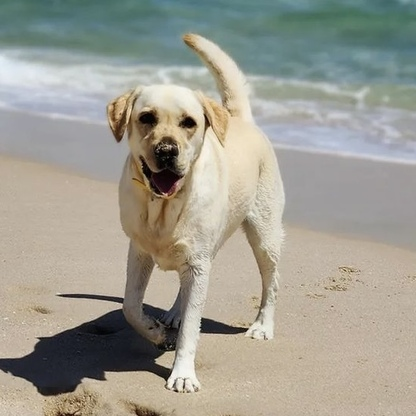labrado: (103, 24, 291, 397)
